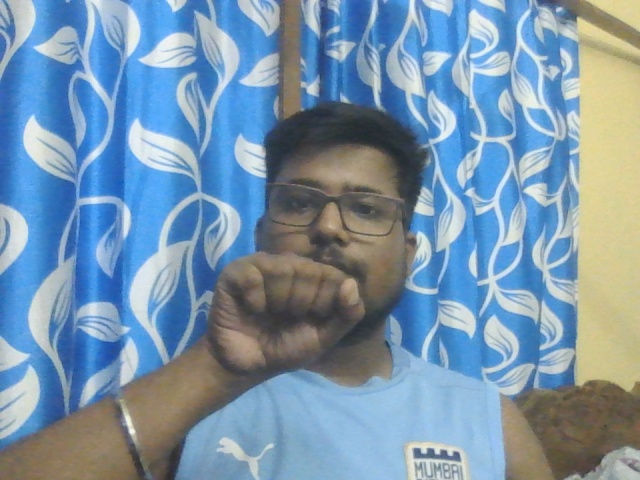A: (208, 251, 366, 372)
